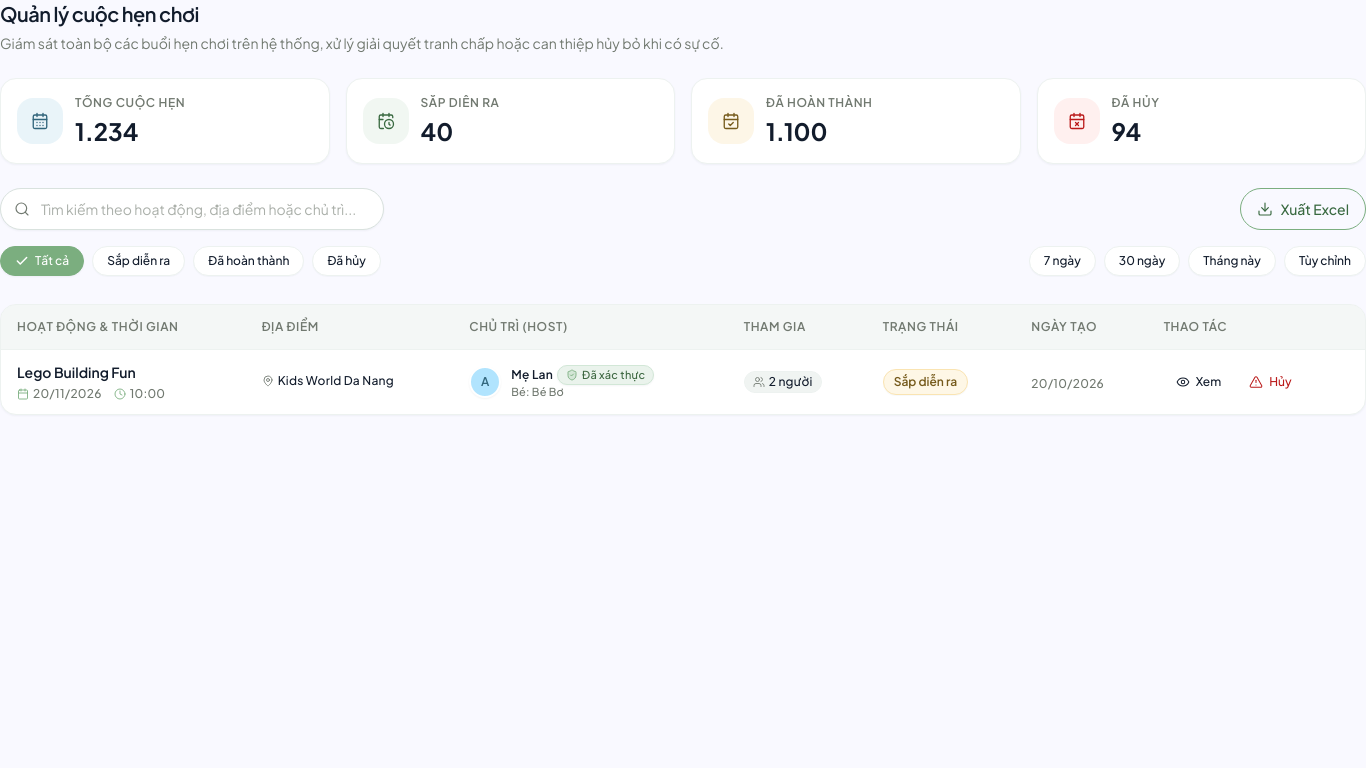
AdminPlaydateManagementPage › shows the system as the canceller when nobody cancelled the playdate
The image size is (1366, 768).
Check: the text "Lego Building Fun" is shown, box [17,363,136,381]
Click the button "Xem" at [1198, 382], box [1164,368,1233,396]
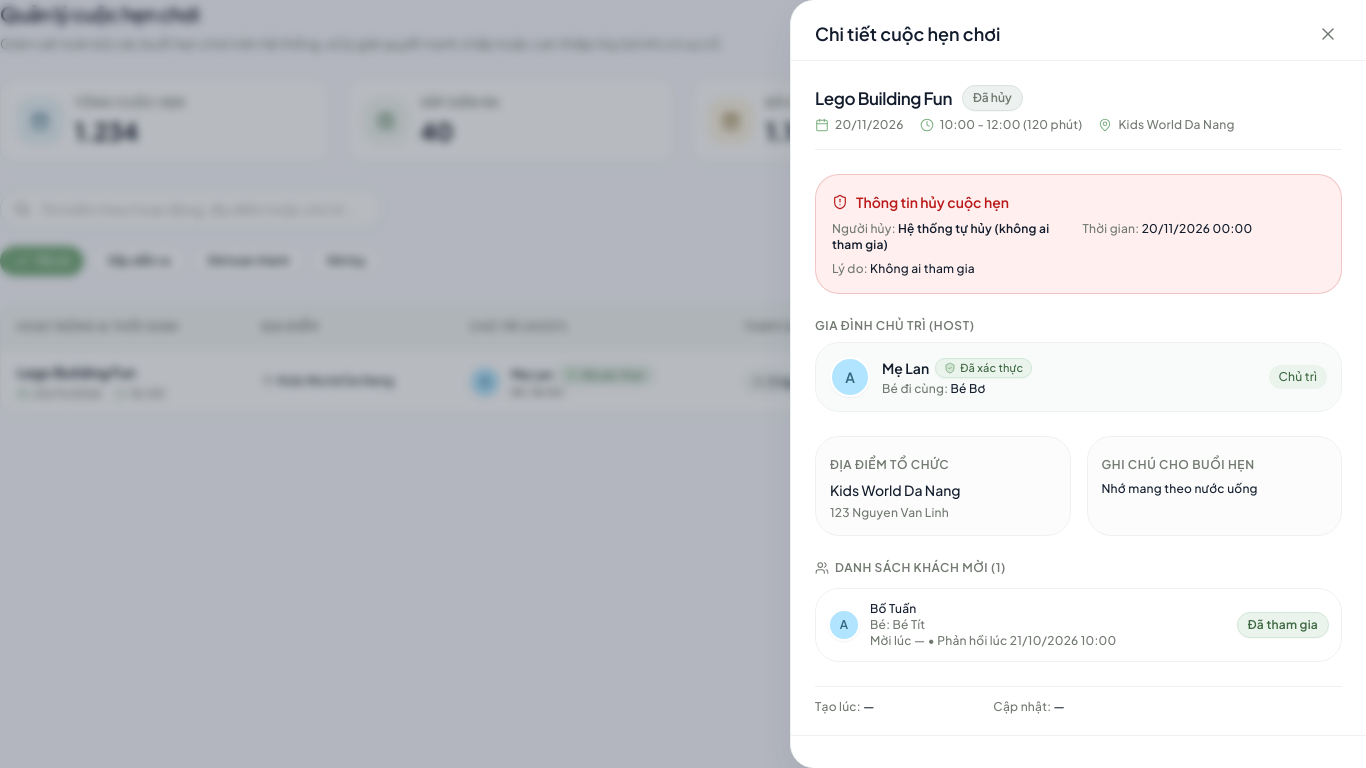
Check: the text "Hệ thống tự hủy (không ai tham gia)" is shown, box [832,221,1049,252]
